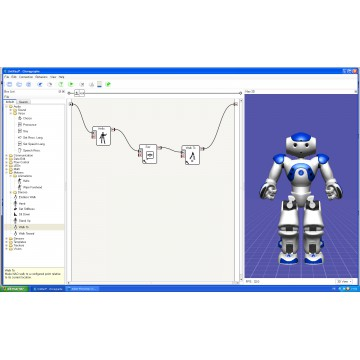nao: (252, 129, 349, 271)
